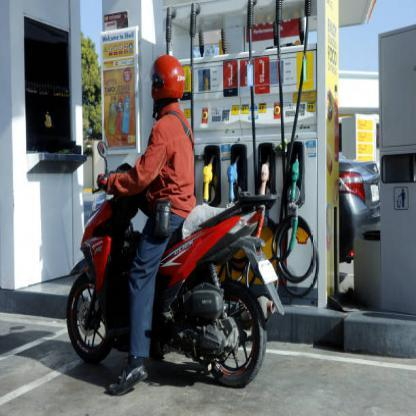Motorcycle: (65, 147, 283, 400)
